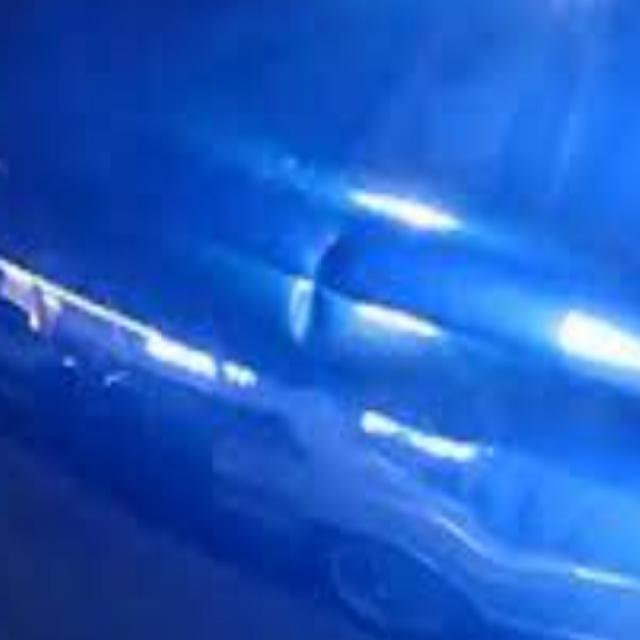dents: (270, 220, 364, 338)
